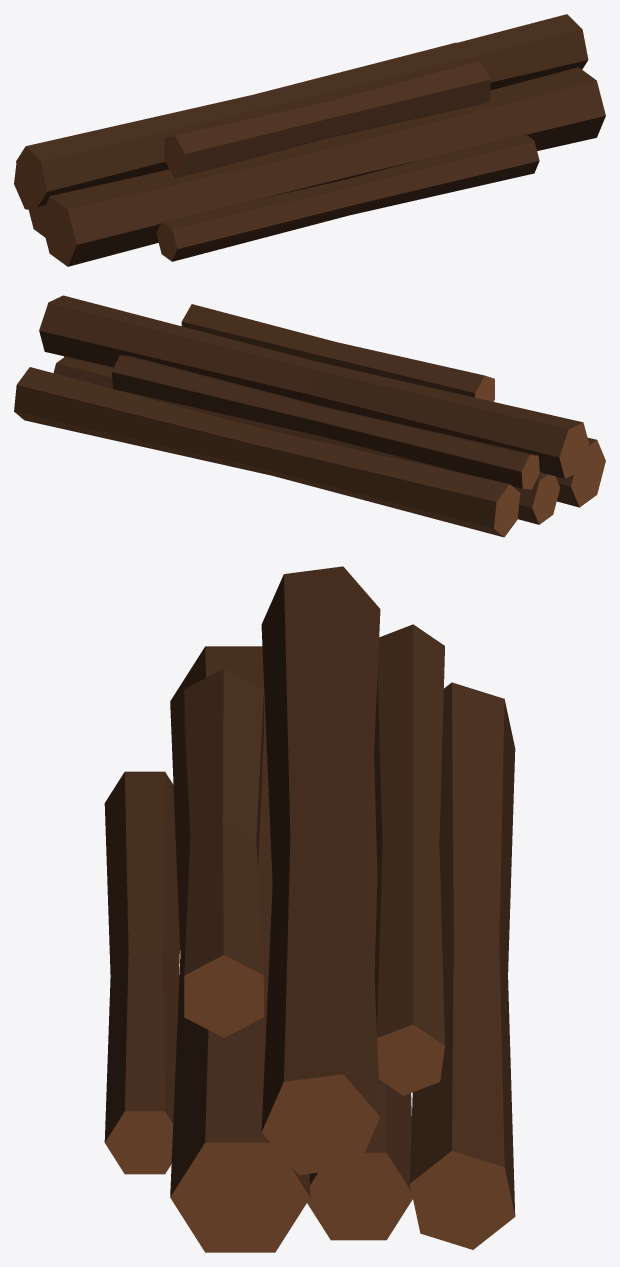
Rendered from Log_8_Dark_Brown.fbx.
The picture shows the model from 3 angles, top to bottom: view 1: azimuth 30°, elevation 25°; view 2: azimuth 150°, elevation 25°; view 3: azimuth 270°, elevation 25°; orthographic projection. The views are drawn at different scales.
Visible parts, largest first — view 1: Log_8_Dark_Brown; view 2: Log_8_Dark_Brown; view 3: Log_8_Dark_Brown.
Part boxes in pixels (x1,y1,x2,y2): Log_8_Dark_Brown: [14, 14, 605, 266]; Log_8_Dark_Brown: [14, 295, 605, 537]; Log_8_Dark_Brown: [104, 566, 515, 1252].
Size of the model in its own units: 431 by 76.27 by 147.
